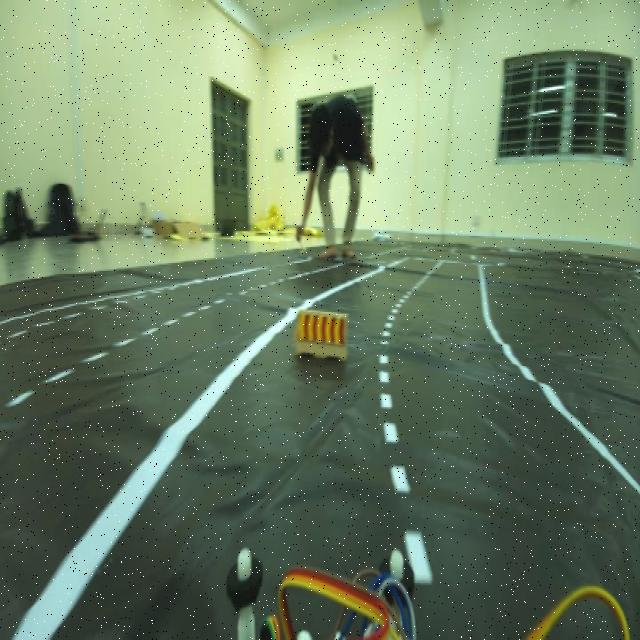roadblock: (291, 301, 351, 366)
